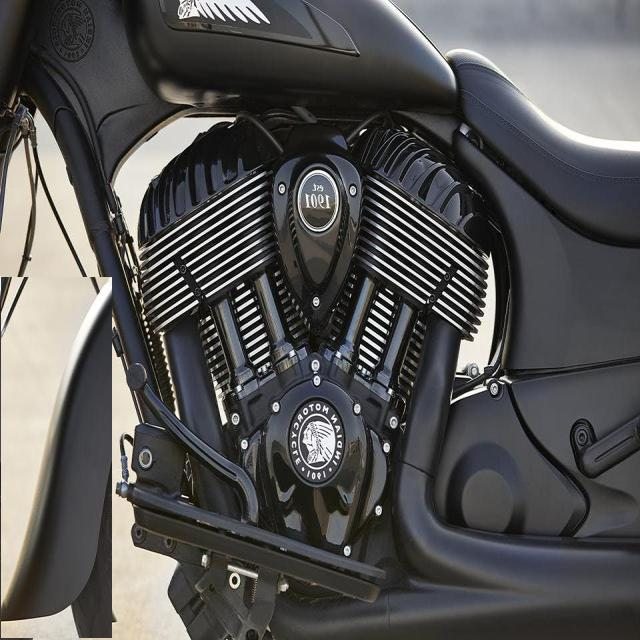motorcycle: (0, 0, 640, 640), (1, 277, 111, 638)
